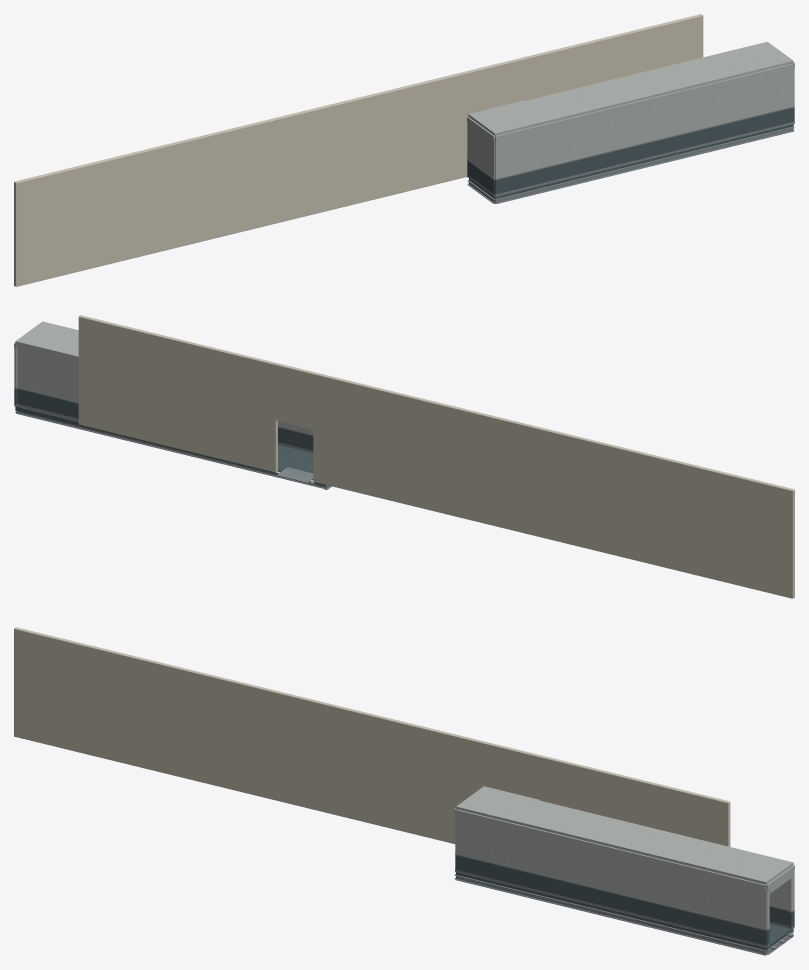
Rendered from GAMES_SERVICE_RECEIVER_r001.glb.
3 renders of one model, top to bottom at view 1: azimuth 30°, elevation 25°; view 2: azimuth 150°, elevation 25°; view 3: azimuth 330°, elevation 25°, orthographic. The views are drawn at different scales.
Parts seen in each view (by area): view 1: GCR_SUCCESSOR_E_outer_north, GCR_BATCH_002, GCR_BATCH_000, GCR_BATCH_003; view 2: GCR_SUCCESSOR_E_outer_north, GCR_BATCH_002, GCR_BATCH_000, GCR_BATCH_003; view 3: GCR_SUCCESSOR_E_outer_north, GCR_BATCH_002, GCR_BATCH_000, GCR_BATCH_003.
Part boxes in pixels (x1,y1,x2,y2): GCR_SUCCESSOR_E_outer_north: (14, 14, 703, 286); GCR_BATCH_002: (467, 41, 794, 178); GCR_BATCH_000: (467, 107, 794, 199); GCR_BATCH_003: (467, 105, 794, 203); GCR_SUCCESSOR_E_outer_north: (78, 315, 794, 598); GCR_BATCH_002: (14, 321, 313, 434); GCR_BATCH_000: (14, 389, 325, 485); GCR_BATCH_003: (14, 387, 331, 489); GCR_SUCCESSOR_E_outer_north: (14, 627, 730, 846); GCR_BATCH_002: (454, 786, 794, 929); GCR_BATCH_000: (455, 855, 794, 951); GCR_BATCH_003: (454, 853, 794, 955).
Size of the model in its own units: 50.1 by 7.06 by 3.64.
7 materials, 6 textured.
